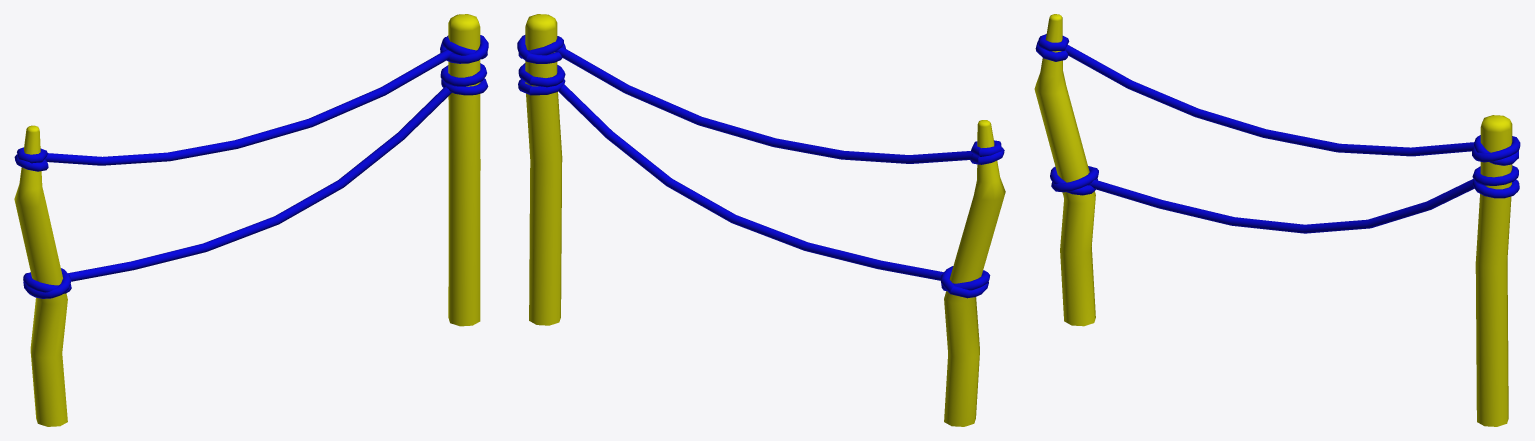
The model's file is prp_RopeFence_B.fbx.
The picture shows the model from 3 angles, left to right: view 1: azimuth 30°, elevation 25°; view 2: azimuth 150°, elevation 25°; view 3: azimuth 330°, elevation 25°; orthographic projection.
Visible parts, largest first — view 1: prp_RopeFence_B; view 2: prp_RopeFence_B; view 3: prp_RopeFence_B.
Boxes of the visible parts, <box> form: prp_RopeFence_B: <box>14,14,488,426</box>; prp_RopeFence_B: <box>517,14,1005,426</box>; prp_RopeFence_B: <box>1034,14,1520,426</box>.
Size of the model in its own units: 150 by 17.2 by 90.79.
